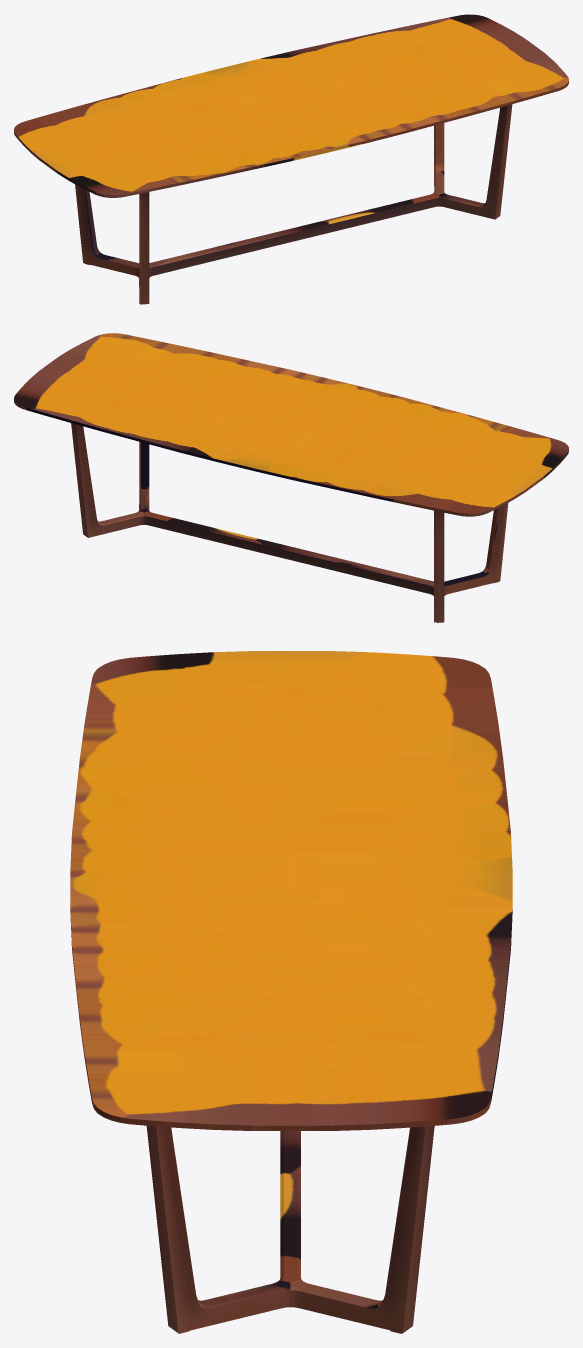
The model's file is edited_mesh.glb.
3 views of the same model, one above another, from view 1: azimuth 30°, elevation 25°; view 2: azimuth 150°, elevation 25°; view 3: azimuth 270°, elevation 25° (orthographic). The views are drawn at different scales.
Visible parts, largest first — view 1: normalized_model.obj; view 2: normalized_model.obj; view 3: normalized_model.obj.
Boxes of the visible parts, x1=… form: normalized_model.obj: x1=14, y1=14, x2=568, y2=304; normalized_model.obj: x1=14, y1=333, x2=568, y2=622; normalized_model.obj: x1=70, y1=651, x2=512, y2=1333.
Bounding box in the file's own units: 2 × 0.5321 × 0.7873.
Materials: 1 (1 with a texture image).
